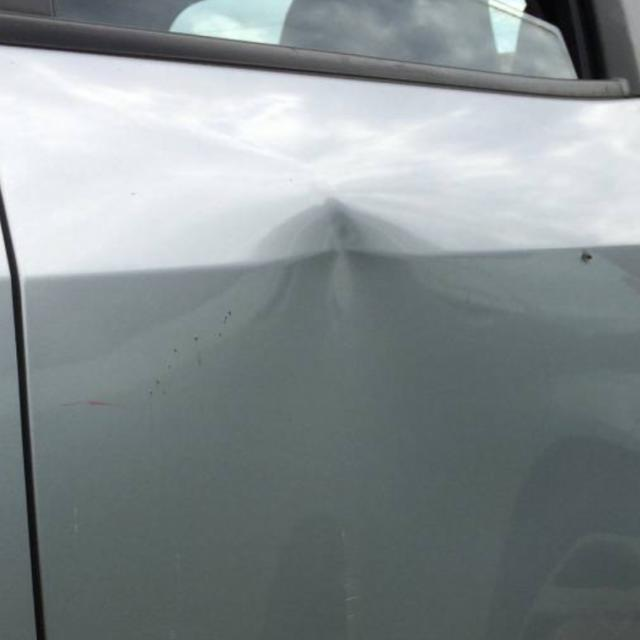dents: (266, 178, 432, 334)
